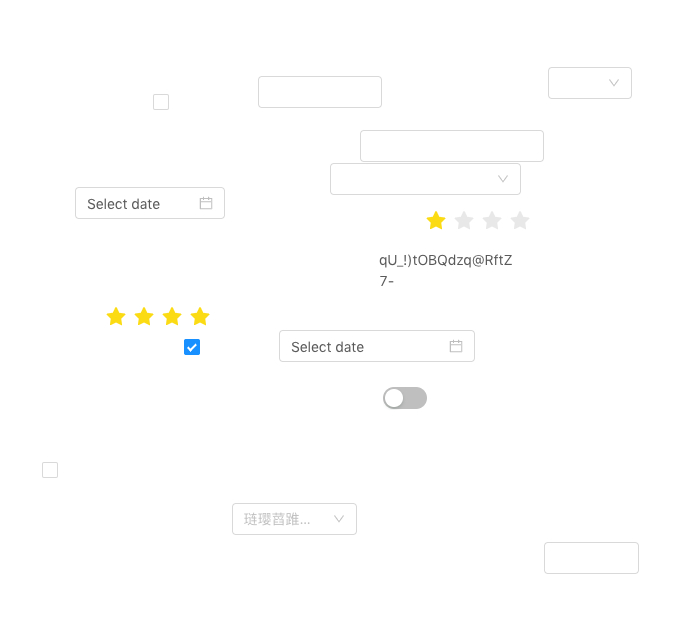Checkbox: (42, 459, 58, 480), (184, 336, 200, 357), (153, 91, 169, 112)
DatePicker: (279, 330, 475, 362), (75, 187, 225, 219)
Input: (360, 130, 544, 162), (258, 76, 382, 108), (544, 542, 639, 574)
Rate: (106, 300, 226, 332), (426, 204, 546, 236)
Select: (330, 163, 521, 195), (232, 503, 357, 535), (548, 67, 632, 99)
Switch: (383, 386, 427, 410)
Text: (379, 249, 521, 292)
